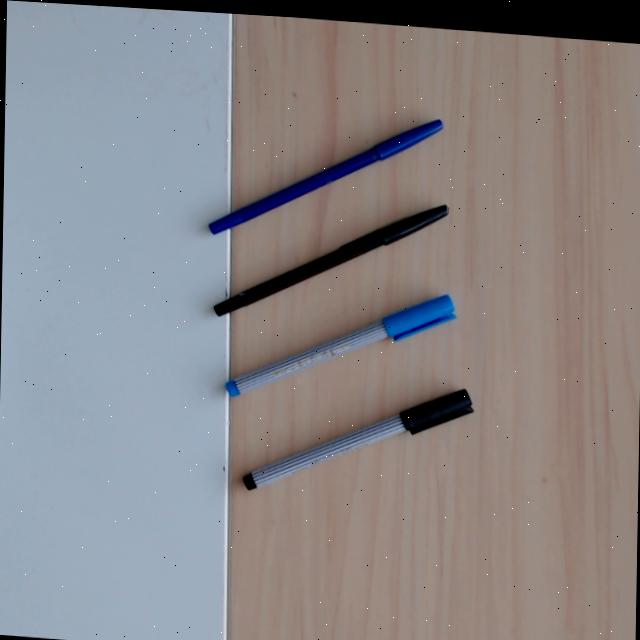Pulpen-Biru: (204, 114, 448, 239)
Pulpen-Garis-Biru: (222, 290, 460, 404)
Pulpen-Garis-Hitam: (237, 386, 477, 496)
Pulpen-Hitam: (208, 198, 453, 321)
